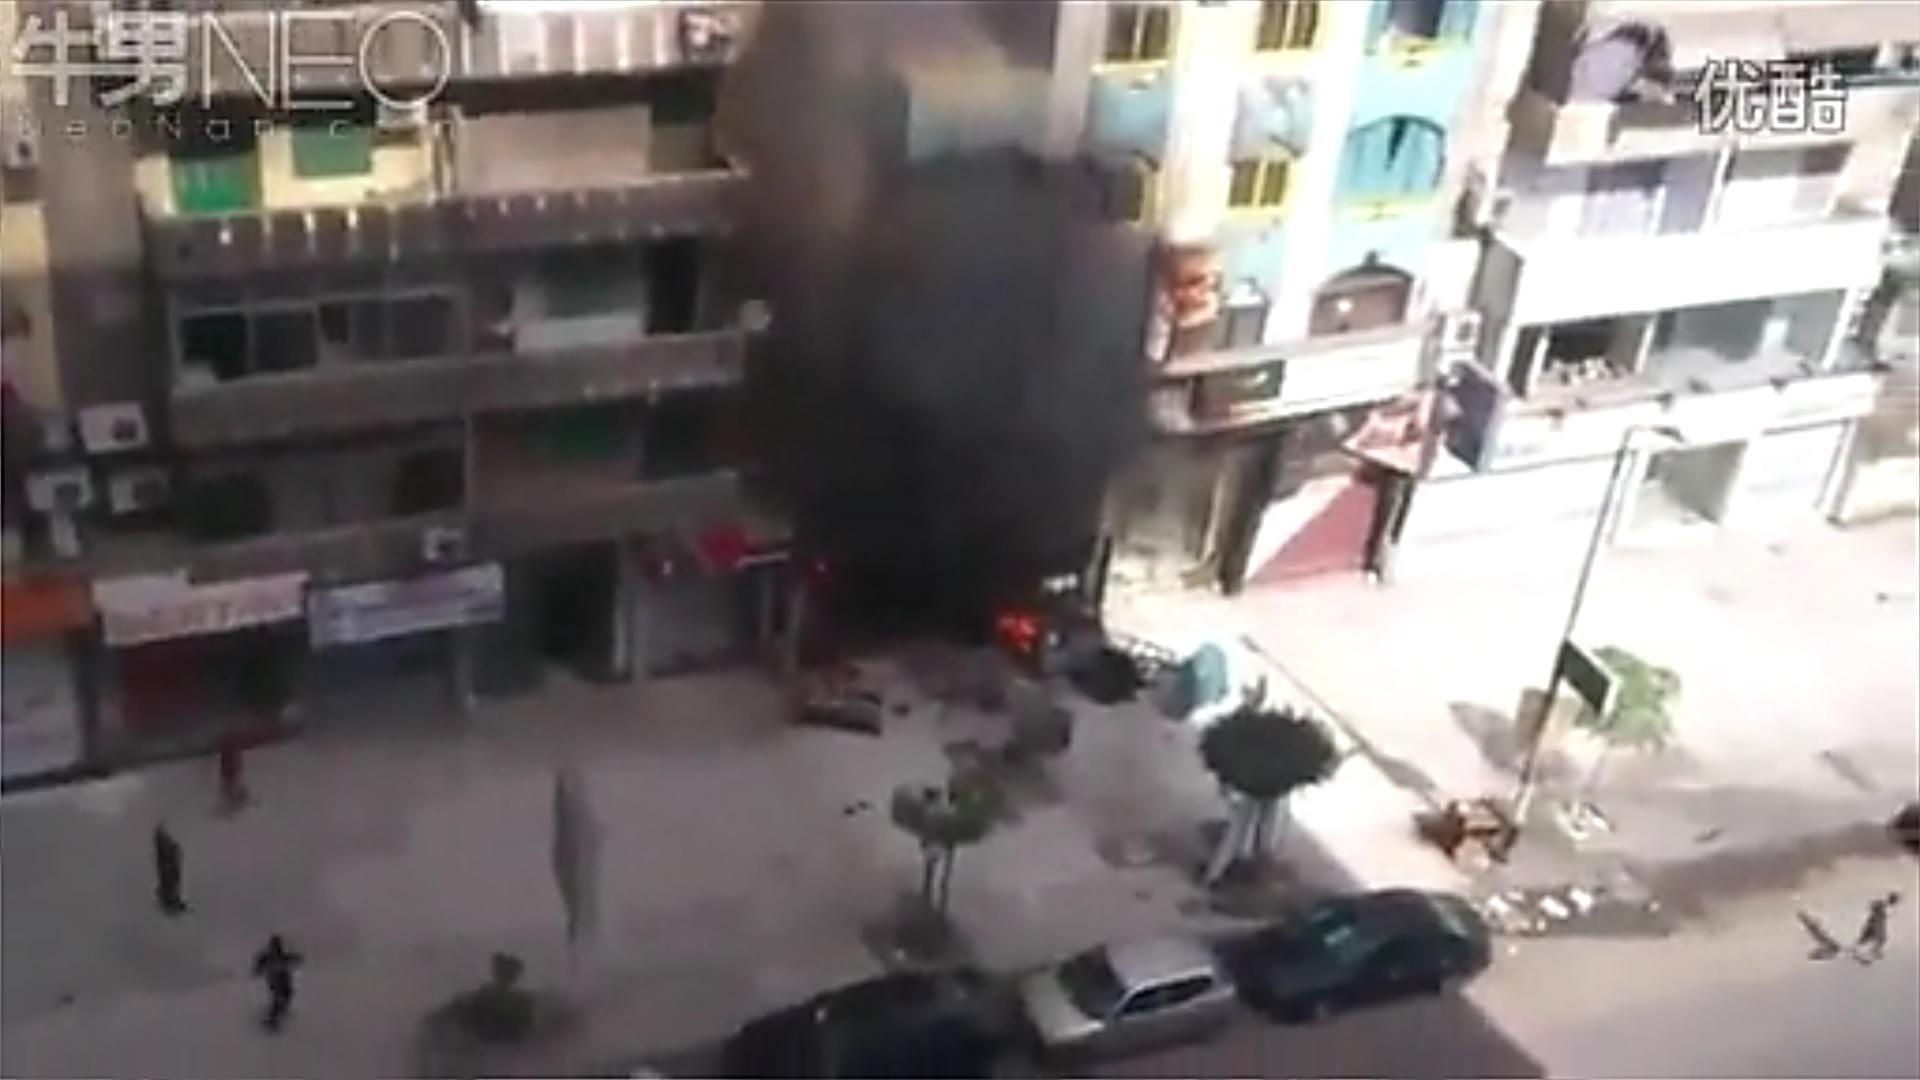fire: (996, 603, 1044, 646)
